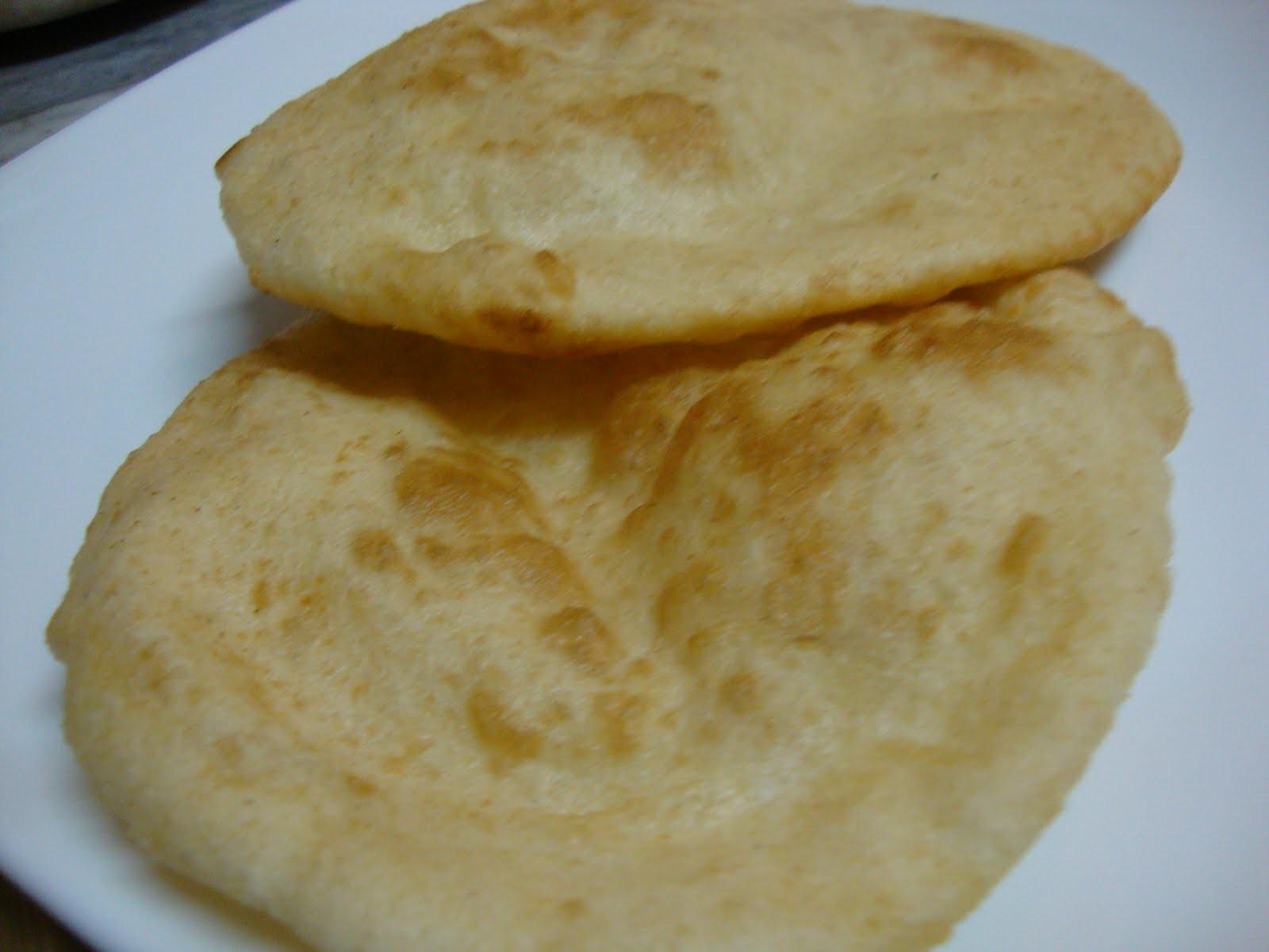Bhatura: (48, 263, 1189, 950), (211, 0, 1183, 351)
